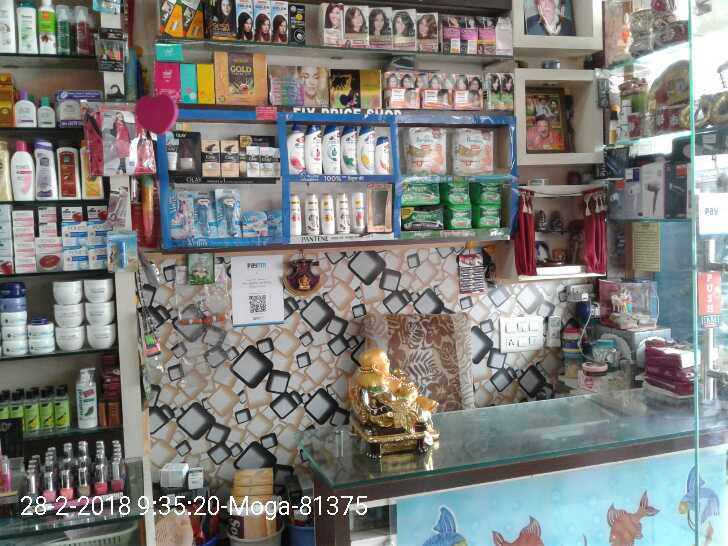venus: (217, 186, 241, 236), (171, 190, 195, 238), (195, 190, 217, 236), (242, 209, 268, 236), (268, 208, 285, 236)
